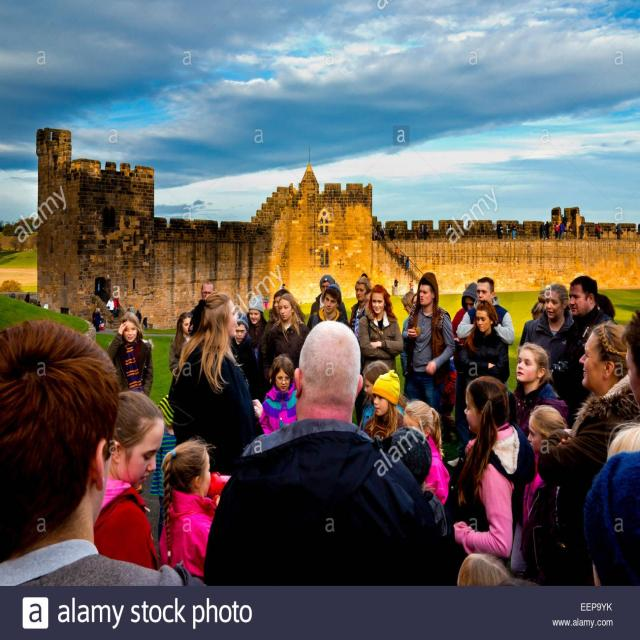body: (200, 316, 459, 585), (0, 317, 211, 588), (537, 319, 640, 587), (169, 289, 256, 477), (154, 434, 232, 640), (452, 374, 536, 558), (584, 314, 638, 586), (92, 390, 166, 573), (521, 403, 568, 587), (560, 275, 615, 429), (404, 272, 456, 415), (446, 281, 479, 465), (403, 398, 451, 506), (510, 341, 558, 438), (524, 283, 575, 374), (263, 292, 310, 385), (459, 299, 509, 385), (455, 277, 516, 346), (106, 311, 154, 398), (358, 284, 403, 375), (251, 352, 298, 436), (361, 358, 408, 432), (260, 287, 293, 384), (362, 368, 404, 441), (227, 312, 260, 401), (306, 282, 350, 332), (310, 274, 348, 322), (457, 553, 509, 587), (246, 293, 268, 365), (168, 311, 191, 376), (188, 280, 216, 315), (530, 290, 546, 320), (113, 294, 122, 318), (558, 214, 567, 238), (94, 279, 103, 299), (94, 308, 101, 332), (375, 226, 386, 240), (106, 297, 115, 314), (422, 222, 430, 241), (540, 222, 548, 240), (538, 224, 546, 241), (553, 222, 560, 240), (578, 222, 585, 240), (594, 222, 601, 240), (393, 276, 399, 296), (135, 308, 142, 324), (389, 224, 395, 242), (511, 222, 517, 240), (544, 221, 550, 239), (399, 250, 405, 268), (99, 315, 106, 330), (496, 223, 502, 240), (615, 223, 621, 240), (264, 294, 270, 310), (404, 255, 410, 271), (142, 315, 148, 330), (124, 306, 135, 314), (498, 222, 503, 238), (91, 308, 96, 324), (560, 221, 564, 240), (409, 280, 414, 295), (25, 292, 31, 304), (371, 224, 375, 241), (568, 223, 573, 234), (394, 246, 400, 255), (417, 228, 421, 240), (391, 284, 395, 296), (11, 290, 16, 299), (36, 301, 42, 307), (282, 282, 286, 289)
